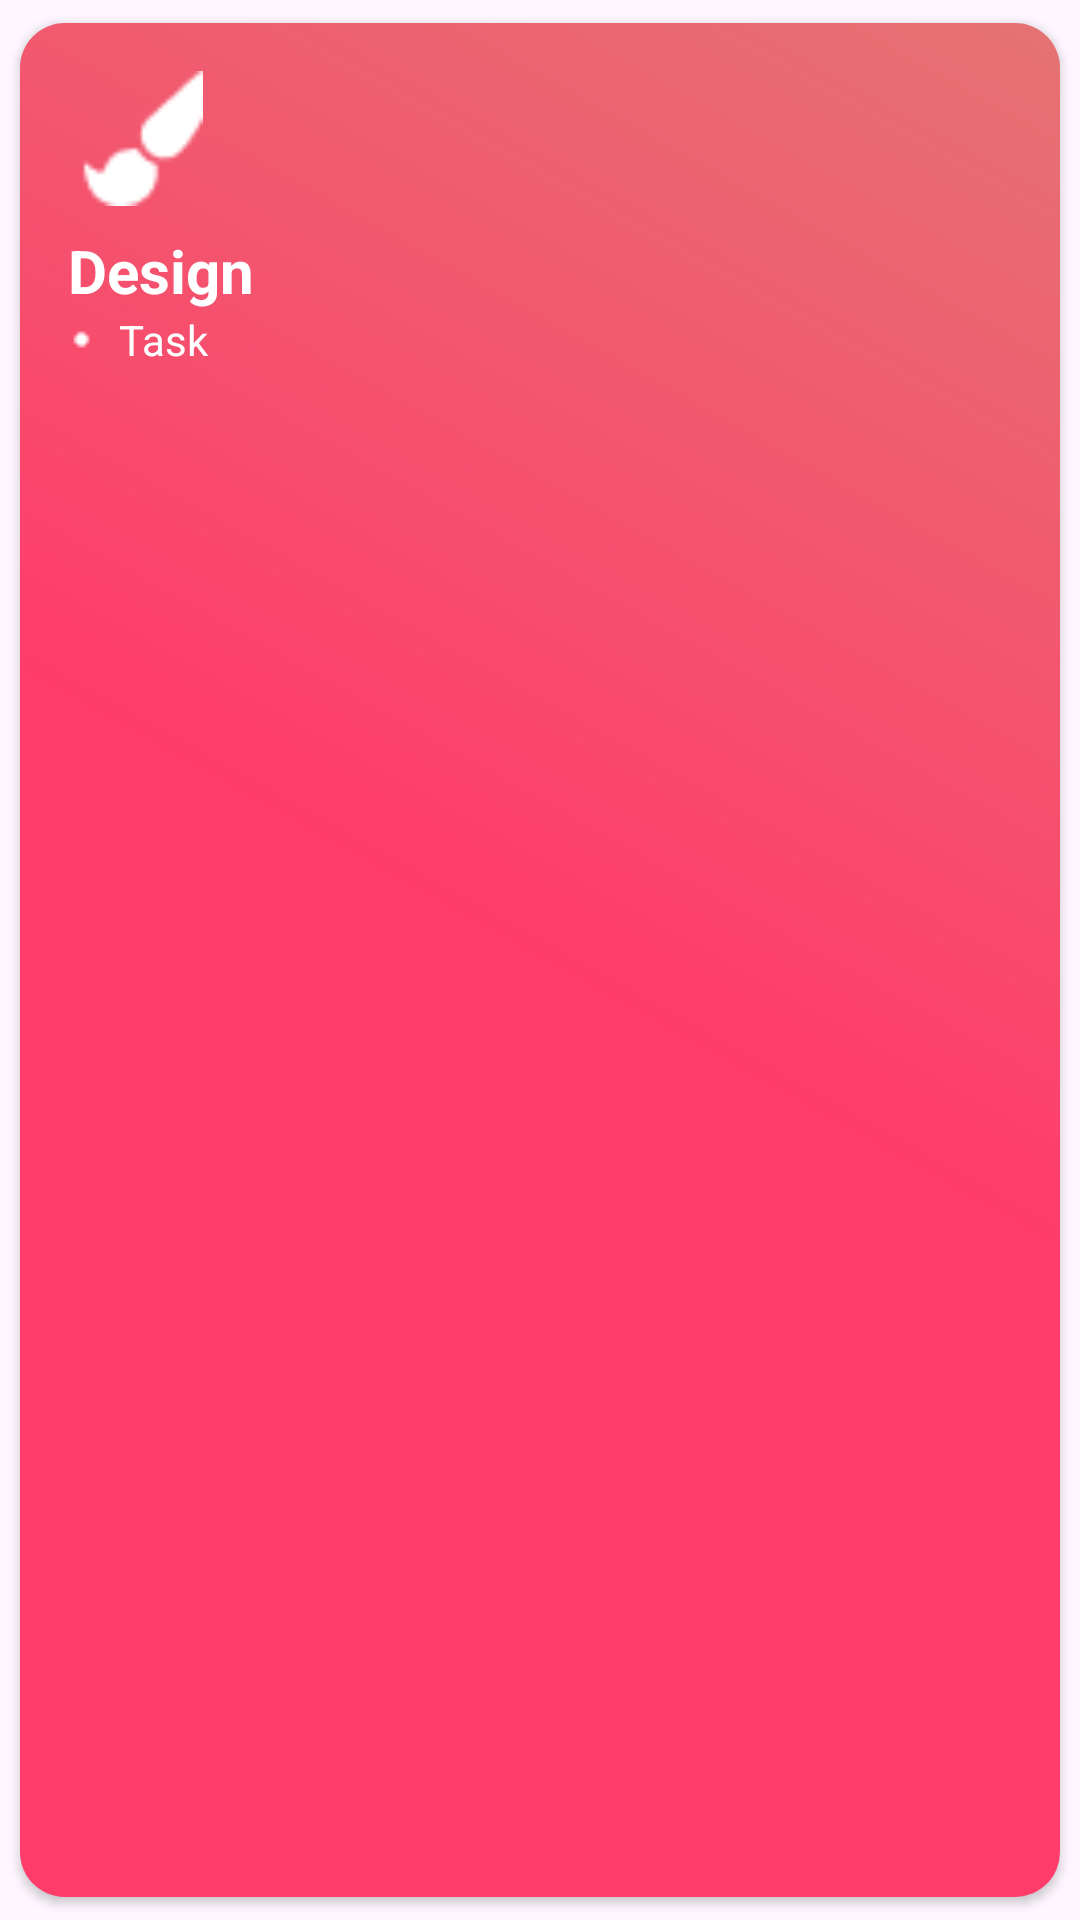

Screen size 1080×1920. Icon name, then its box in pixels as [x1,y1,x2,y2]:
paint: [83,71,203,206]
